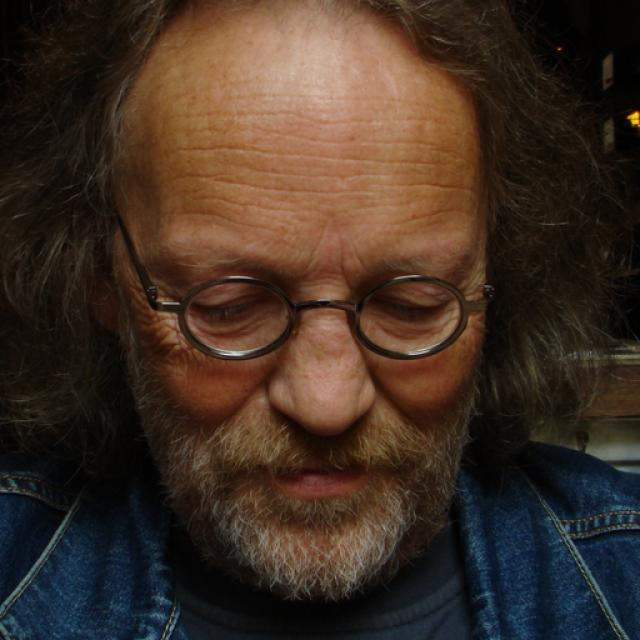sad: (118, 65, 494, 595)
